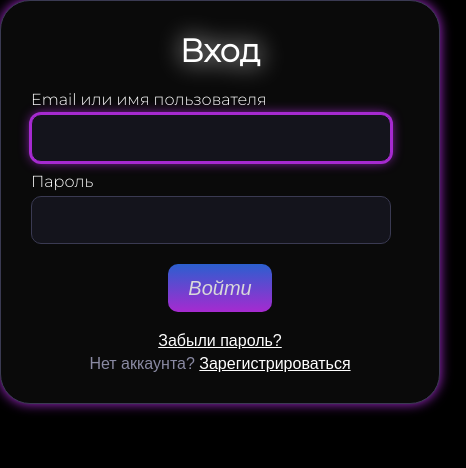
Test: LoginForm › shows one message for wrong credentials
Type "neo" into the field labelled "Email или имя пользователя" at (211,138), box [31,114,391,162]
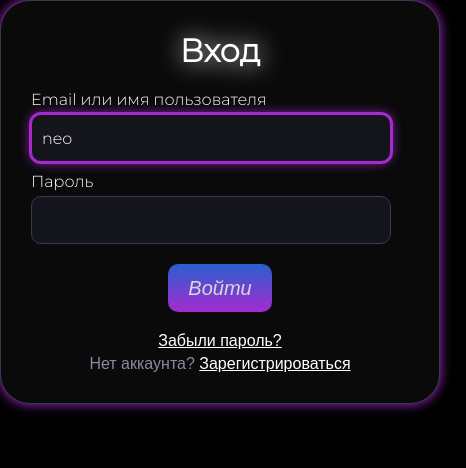
Type "wrong" into the password field labelled "Пароль" at (211,220), box [31,196,391,244]
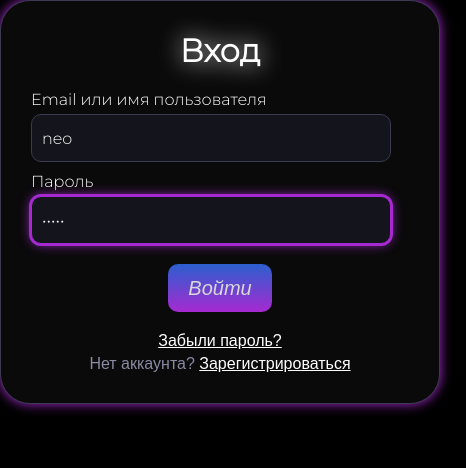
Click the button "Войти" at (220,288), box [168,264,272,312]
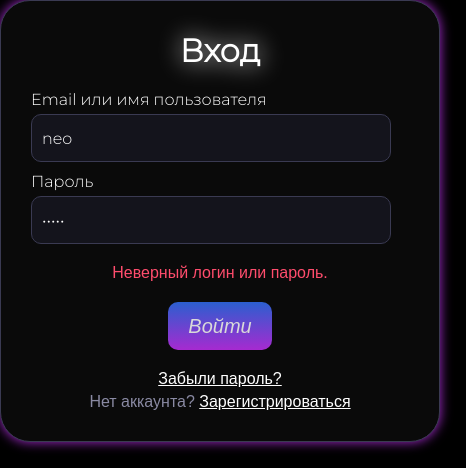
Now the message reads "Неверный логин или пароль.", box [112,264,328,281]
